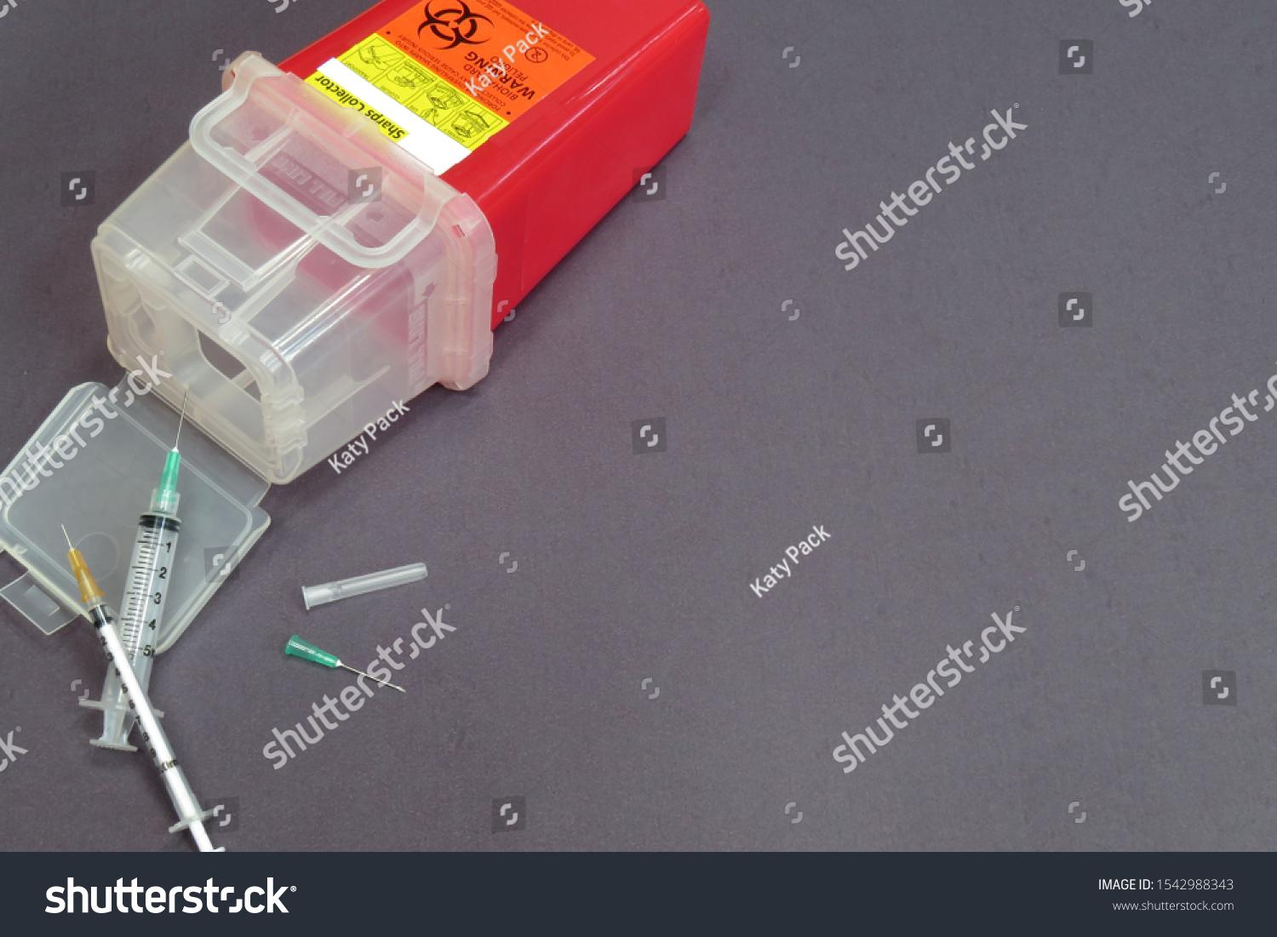Syringe: (63, 527, 223, 850), (117, 396, 186, 691)
